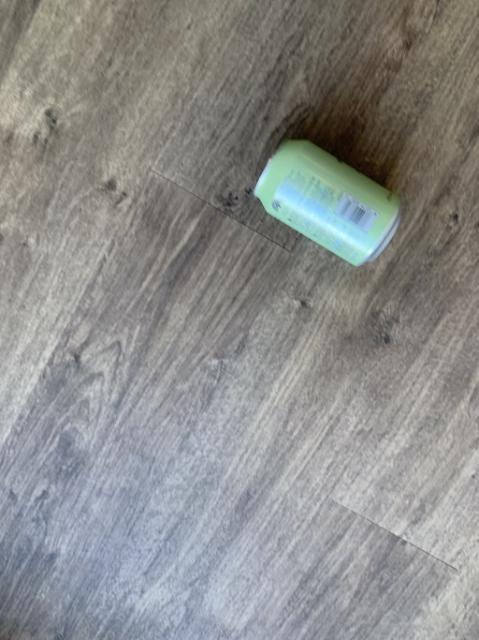metal: (254, 139, 399, 264)
